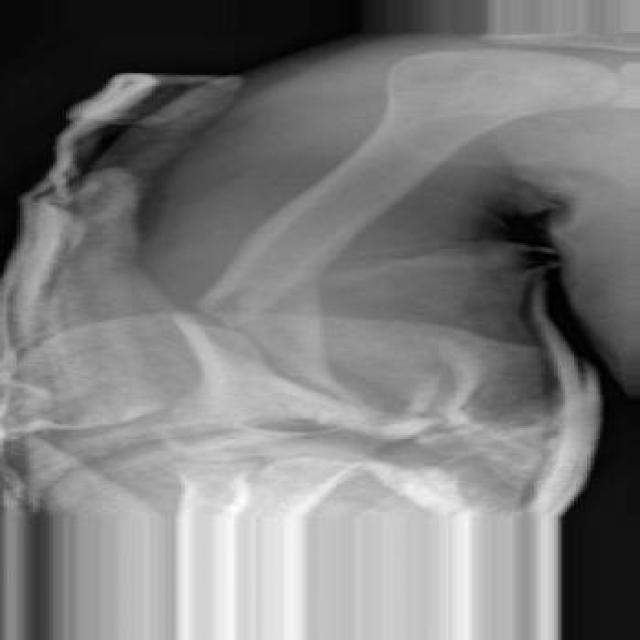Fracture: (138, 293, 292, 343)
